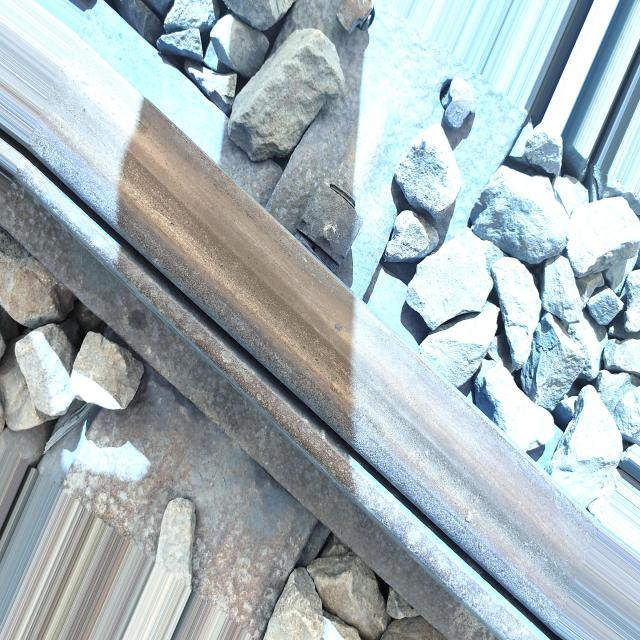defective: (2, 3, 637, 638)
